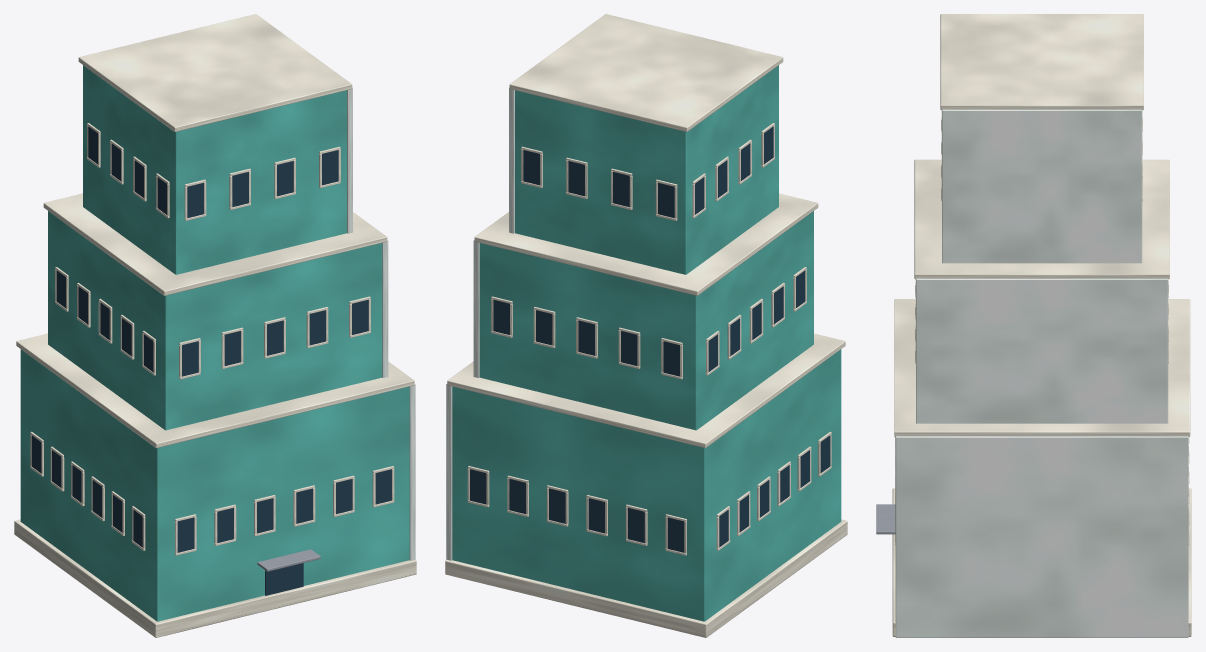
File: bldg_deco_teal.glb
3 renders of one model, left to right at view 1: azimuth 30°, elevation 25°; view 2: azimuth 150°, elevation 25°; view 3: azimuth 270°, elevation 25°, orthographic. The views are drawn at different scales.
Parts seen in each view (by area): view 1: bldg_deco_teal_band_0_wall, bldg_deco_teal_band_1_wall, bldg_deco_teal_band_2_wall, bldg_deco_teal_band_2_cornice, bldg_deco_teal_band_1_cornice, bldg_deco_teal_band_0_cornice, bldg_deco_teal_plinth, bldg_deco_teal_band_0_pilaster, bldg_deco_teal_band_1_pilaster, bldg_deco_teal_entrance, bldg_deco_teal_band_2_pilaster, bldg_deco_teal_canopy (+1 smaller); view 2: bldg_deco_teal_band_0_wall, bldg_deco_teal_band_1_wall, bldg_deco_teal_band_2_wall, bldg_deco_teal_band_2_cornice, bldg_deco_teal_band_1_cornice, bldg_deco_teal_band_0_cornice, bldg_deco_teal_plinth, bldg_deco_teal_band_0_pilaster, bldg_deco_teal_band_1_pilaster, bldg_deco_teal_band_2_pilaster, bldg_deco_teal_band_0_front_0_glass; view 3: bldg_deco_teal_band_0_pilaster, bldg_deco_teal_band_1_pilaster, bldg_deco_teal_band_2_pilaster, bldg_deco_teal_band_2_cornice, bldg_deco_teal_band_1_cornice, bldg_deco_teal_band_0_cornice, bldg_deco_teal_plinth, bldg_deco_teal_canopy.
Boxes of the visible parts, x1,y1,x2,y2 form: bldg_deco_teal_band_0_wall: (20,349,409,621); bldg_deco_teal_band_1_wall: (48,211,382,430); bldg_deco_teal_band_2_wall: (83,65,346,274); bldg_deco_teal_band_2_cornice: (78,14,352,131); bldg_deco_teal_band_1_cornice: (43,193,387,295); bldg_deco_teal_band_0_cornice: (16,333,414,448); bldg_deco_teal_plinth: (14,519,416,637); bldg_deco_teal_band_0_pilaster: (409,383,415,560); bldg_deco_teal_band_1_pilaster: (382,240,388,377); bldg_deco_teal_entrance: (265,563,303,595); bldg_deco_teal_band_2_pilaster: (347,87,352,233); bldg_deco_teal_canopy: (257,549,320,571); bldg_deco_teal_band_0_wall: (452,349,841,621); bldg_deco_teal_band_1_wall: (479,211,813,430); bldg_deco_teal_band_2_wall: (515,65,778,274); bldg_deco_teal_band_2_cornice: (509,14,783,131); bldg_deco_teal_band_1_cornice: (474,193,818,295); bldg_deco_teal_band_0_cornice: (447,333,845,448); bldg_deco_teal_plinth: (445,519,847,637); bldg_deco_teal_band_0_pilaster: (446,383,452,560); bldg_deco_teal_band_1_pilaster: (473,240,479,377); bldg_deco_teal_band_2_pilaster: (509,87,514,233); bldg_deco_teal_band_0_front_0_glass: (667,517,684,552); bldg_deco_teal_band_0_pilaster: (895,436,1188,637); bldg_deco_teal_band_1_pilaster: (916,278,1168,423); bldg_deco_teal_band_2_pilaster: (942,109,1142,263); bldg_deco_teal_band_2_cornice: (940,14,1143,110); bldg_deco_teal_band_1_cornice: (914,159,1169,279); bldg_deco_teal_band_0_cornice: (894,299,1190,436); bldg_deco_teal_plinth: (892,488,1191,636); bldg_deco_teal_canopy: (876,504,895,534).
Bounding box in the file's own units: 16.51 × 29.25 × 16.35.
5 materials, 5 textured.
